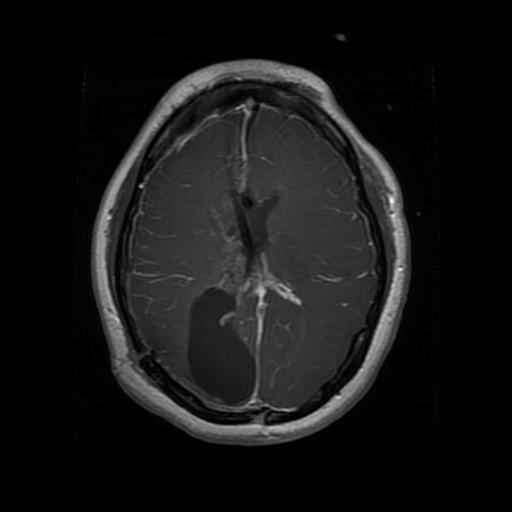Tumour-Glioma: (180, 295, 256, 403)
